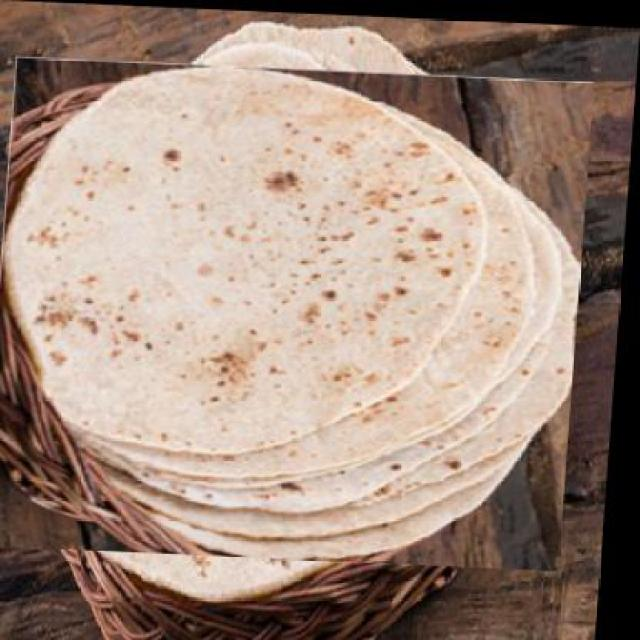chapati: (9, 34, 576, 588)
